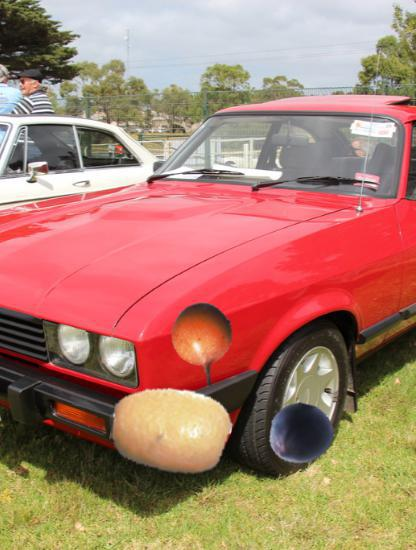Granadilla: (162, 301, 248, 387)
Kumquats: (112, 371, 231, 490)
Plum: (269, 401, 335, 467)
